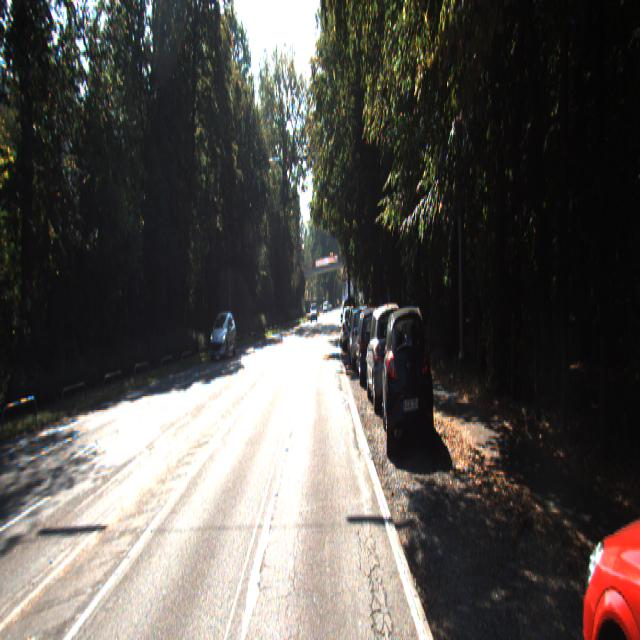Car: (567, 312, 639, 638), (381, 300, 435, 454), (365, 303, 410, 410), (355, 305, 385, 385), (349, 305, 375, 371), (209, 312, 237, 362), (342, 306, 358, 350)
